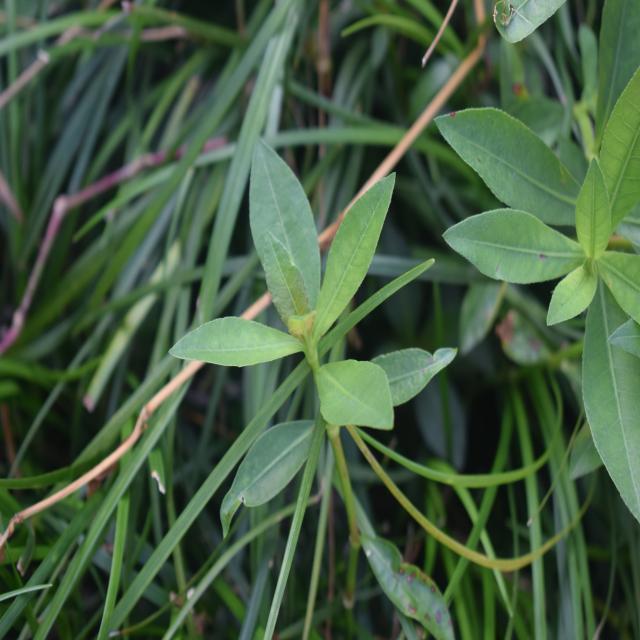Alligatorweed: (183, 124, 436, 534), (441, 70, 640, 505)
